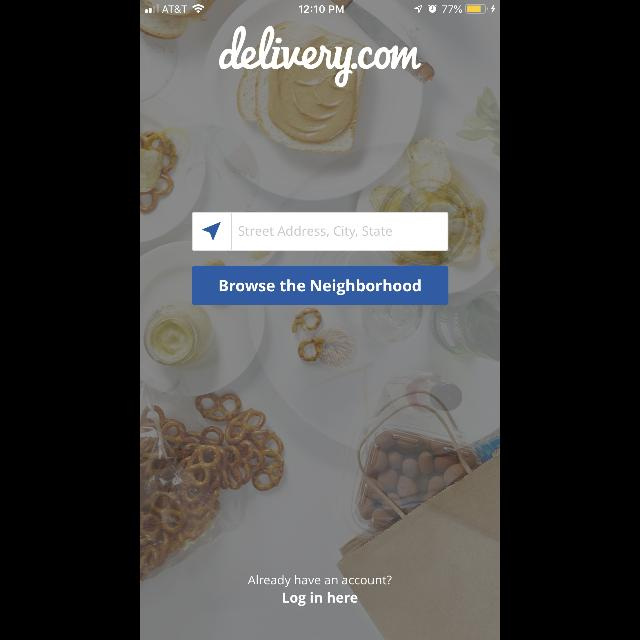backgroundimage: (140, 1, 500, 640)
icon: (202, 222, 222, 240)
input: (192, 212, 448, 252)
text: (219, 27, 421, 87), (248, 574, 392, 588), (240, 226, 392, 238), (282, 592, 358, 606)
textbutton: (192, 266, 448, 306)
uppertaskbar: (140, 0, 500, 14)
